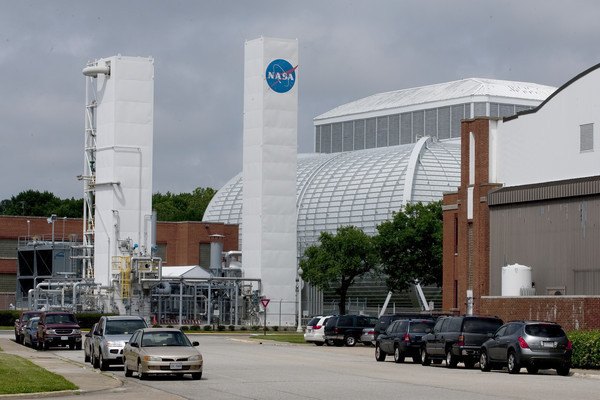NASA: (262, 56, 299, 97)
